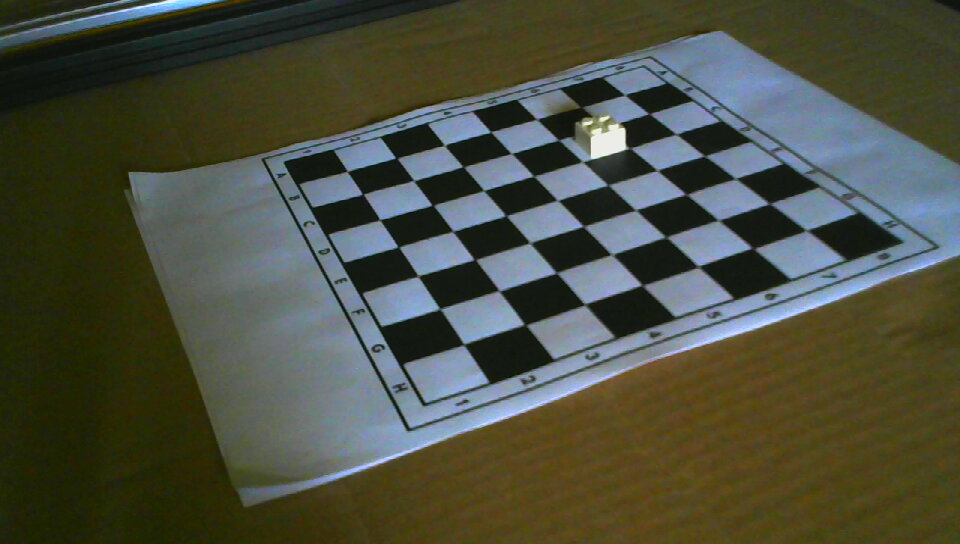wp: (573, 113, 626, 158)
